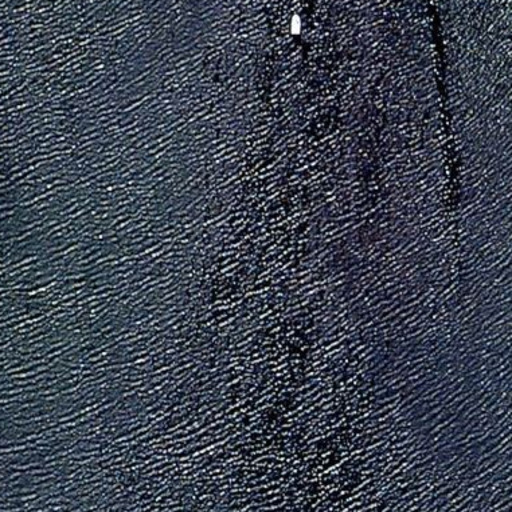ship: (288, 10, 302, 37)
